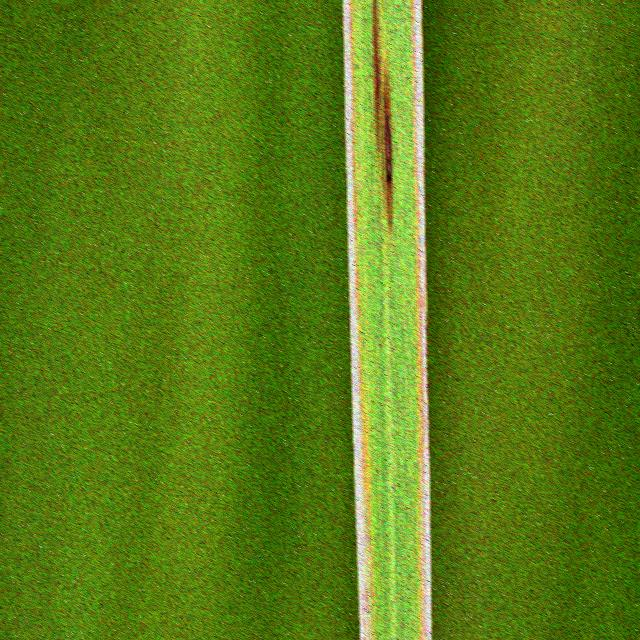BLB: (343, 0, 374, 639), (411, 0, 431, 639)
